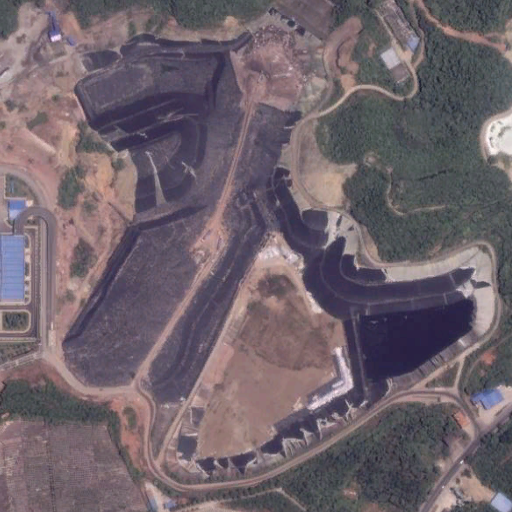lf: (57, 27, 493, 491)
